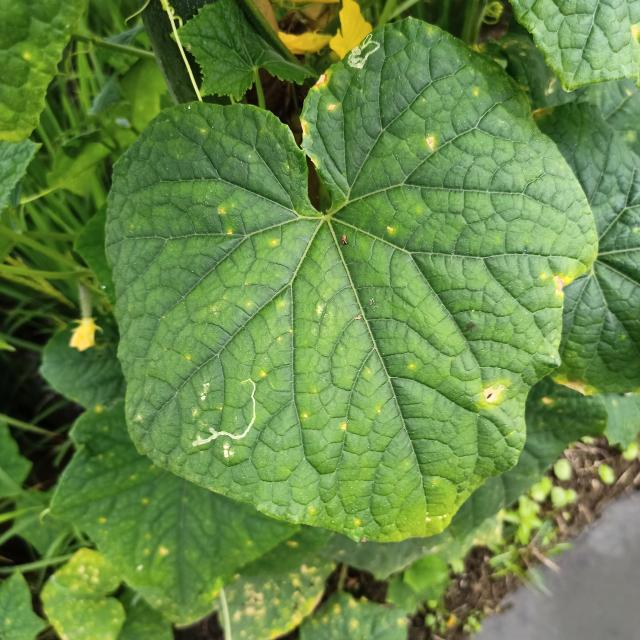disease_cucumber: (314, 74, 344, 115), (482, 382, 510, 407), (218, 206, 238, 240), (551, 271, 576, 297), (425, 134, 444, 154)
